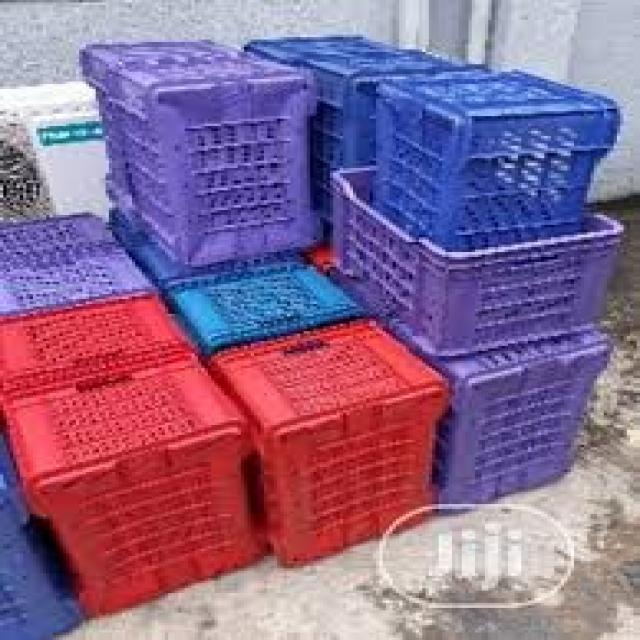basket: (0, 172, 291, 627), (203, 286, 490, 574), (308, 162, 624, 389), (79, 37, 317, 269), (369, 67, 626, 256), (429, 326, 614, 503), (166, 241, 366, 362), (0, 437, 82, 639)
